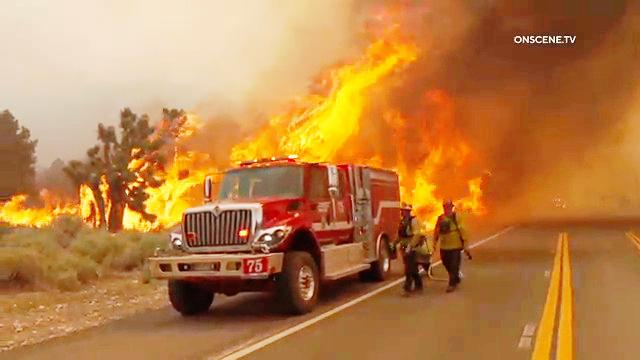fire: (234, 16, 413, 158), (84, 108, 197, 223), (396, 105, 471, 198), (7, 186, 88, 233)
smoke: (502, 47, 640, 148)
